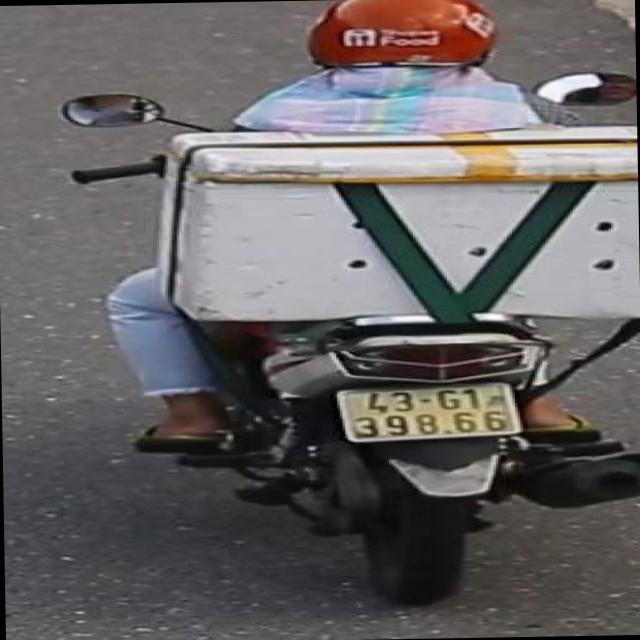LP: (328, 378, 522, 447)
helmet: (301, 0, 503, 74)
